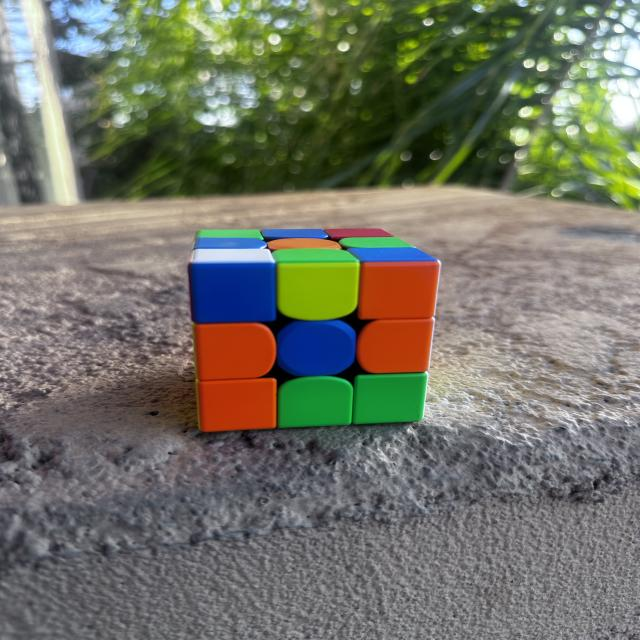sticker: (188, 247, 278, 326), (351, 250, 441, 323), (274, 248, 361, 322), (193, 322, 278, 381), (274, 319, 358, 378), (196, 377, 279, 433), (356, 318, 436, 375), (276, 375, 356, 429), (352, 373, 428, 426), (192, 237, 269, 250), (266, 238, 342, 250), (259, 229, 331, 241), (336, 236, 408, 248), (323, 228, 394, 240), (194, 229, 264, 240)
